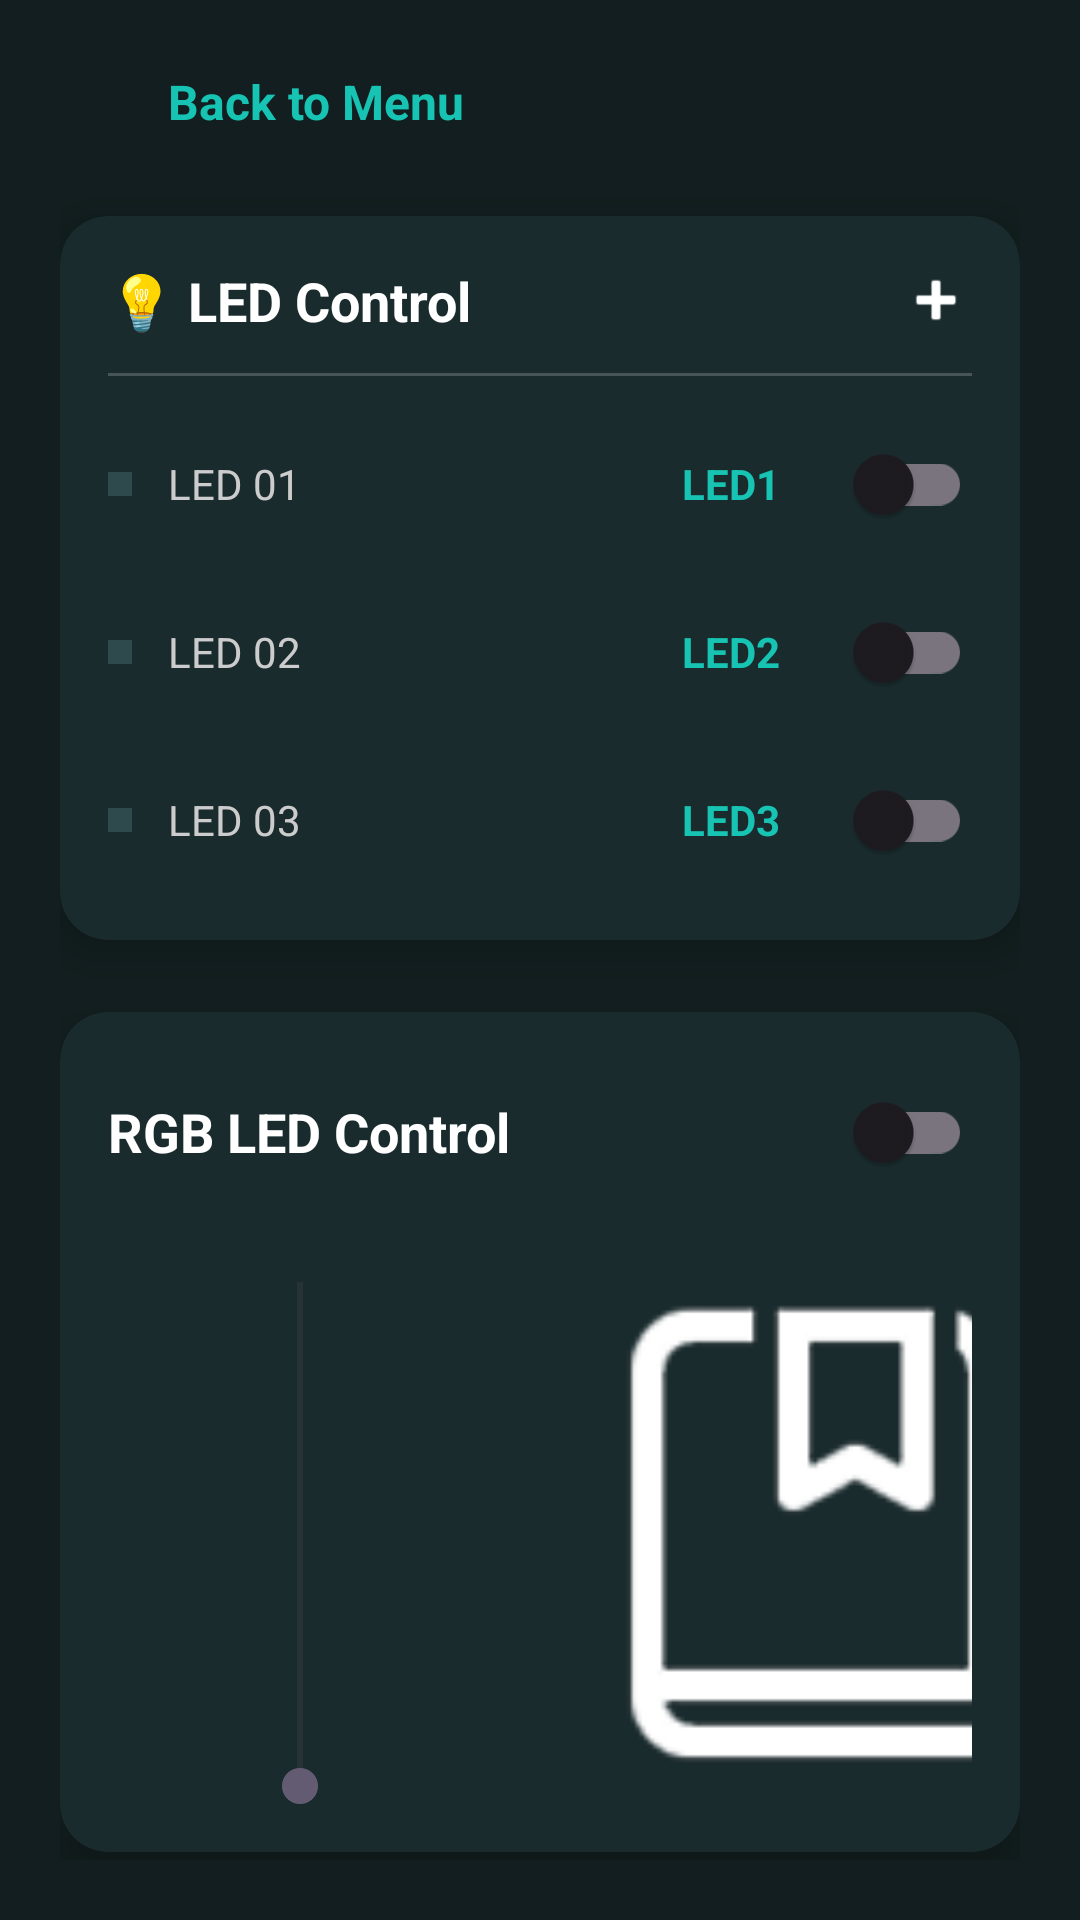

Where icons sit on this 1080*1920 app screen, as (x1, y1, x2, y2):
add: (915, 280, 957, 320)
